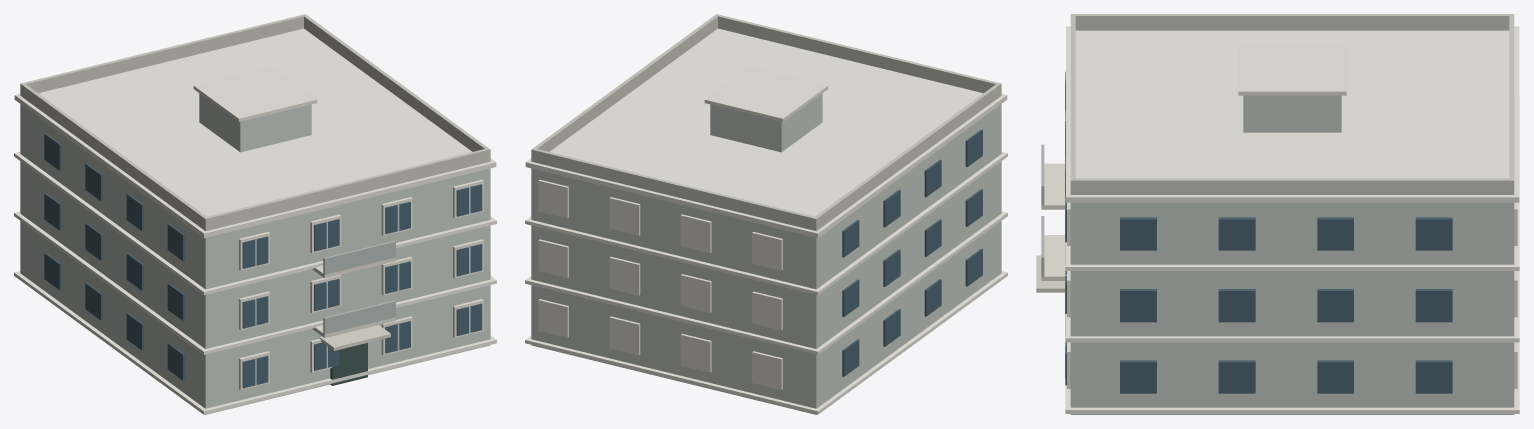
3 renders of one model, left to right at view 1: azimuth 30°, elevation 25°; view 2: azimuth 150°, elevation 25°; view 3: azimuth 270°, elevation 25°, orthographic. The views are drawn at different scales.
Bounding box in the file's own units: 16.44 × 11.78 × 19.62.
